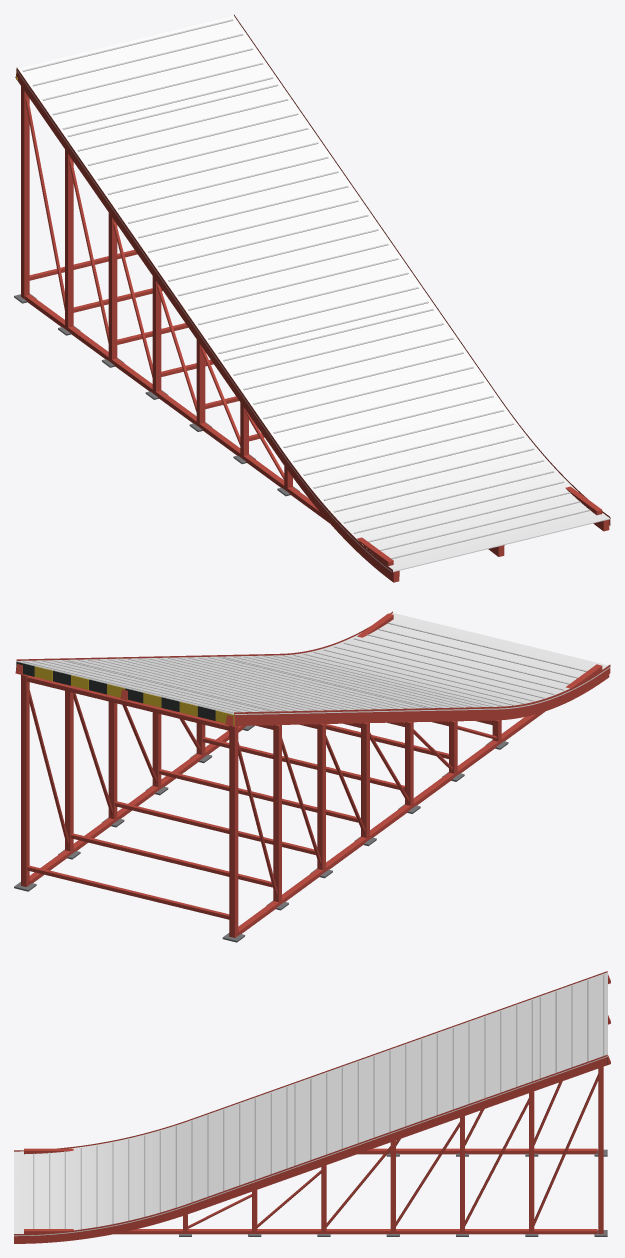
Rendered from sport.stunt.ramp_huge.glb.
The picture shows the model from 3 angles, top to bottom: view 1: azimuth 30°, elevation 25°; view 2: azimuth 150°, elevation 25°; view 3: azimuth 270°, elevation 25°; orthographic projection. The views are drawn at different scales.
Parts seen in each view (by area): view 1: main__steel_fff, main__paint_c44, main__galv_ccc; view 2: main__paint_c44, main__steel_fff, main__galv_ccc, main__paint_ec3, main__paint_333, main__steel_777; view 3: main__steel_fff, main__paint_c44, main__galv_ccc, main__steel_777.
Boxes of the visible parts, box(x1,y1,x2,y2) form: main__steel_fff: box(16, 16, 610, 572); main__paint_c44: box(15, 14, 610, 582); main__galv_ccc: box(22, 19, 590, 558); main__paint_c44: box(15, 611, 610, 937); main__steel_fff: box(16, 613, 610, 714); main__galv_ccc: box(23, 622, 586, 712); main__paint_ec3: box(34, 666, 234, 725); main__paint_333: box(16, 662, 215, 720); main__steel_777: box(14, 725, 508, 942); main__steel_fff: box(14, 972, 607, 1236); main__paint_c44: box(14, 971, 610, 1243); main__galv_ccc: box(33, 974, 604, 1228); main__steel_777: box(179, 1149, 607, 1236).
Size of the model in its own units: 3.08 by 3.17 by 9.05.
